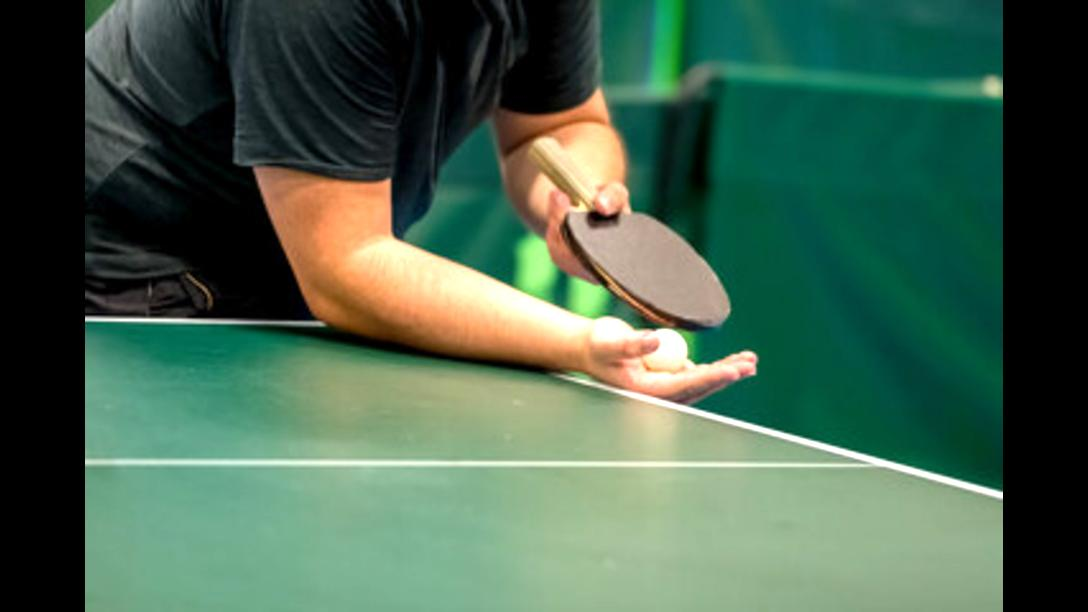Table-Tennis-Ball: (644, 328, 686, 370)
